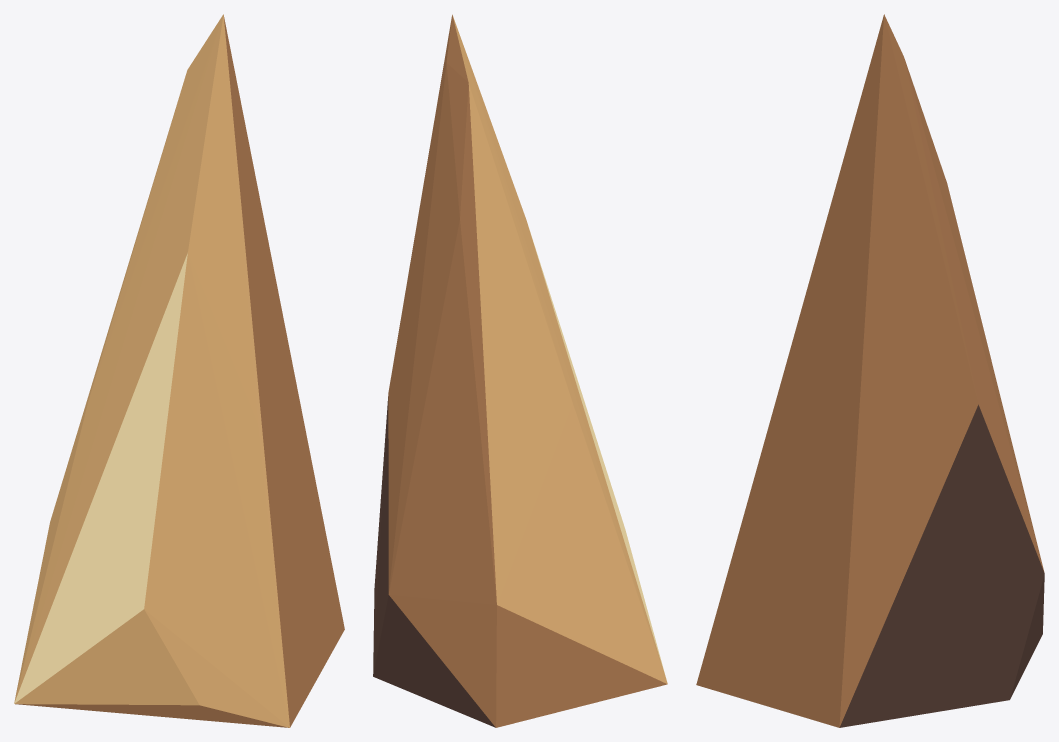
Rendered from earth_spire.glb.
The picture shows the model from 3 angles, left to right: view 1: azimuth 30°, elevation 25°; view 2: azimuth 150°, elevation 25°; view 3: azimuth 270°, elevation 25°; orthographic projection. The views are drawn at different scales.
Visible parts, largest first — view 1: earth_spire; view 2: earth_spire; view 3: earth_spire.
Boxes of the visible parts, bbox=[...] form: earth_spire: bbox=[14, 14, 344, 727]; earth_spire: bbox=[373, 14, 667, 727]; earth_spire: bbox=[696, 14, 1044, 727].
Bounding box in the file's own units: 1.35 × 2.63 × 1.22.
